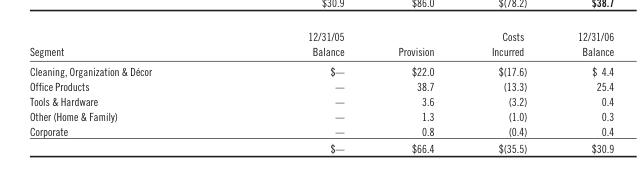table: (28, 29, 613, 154)
table column: (28, 29, 229, 154), (229, 29, 370, 154), (370, 29, 462, 154), (462, 29, 551, 154), (551, 29, 613, 154)
table column header: (28, 29, 613, 60)
table row: (28, 29, 613, 60), (28, 60, 613, 78), (28, 123, 613, 139), (28, 78, 613, 93), (28, 93, 613, 108), (28, 108, 613, 123), (28, 139, 613, 154)
